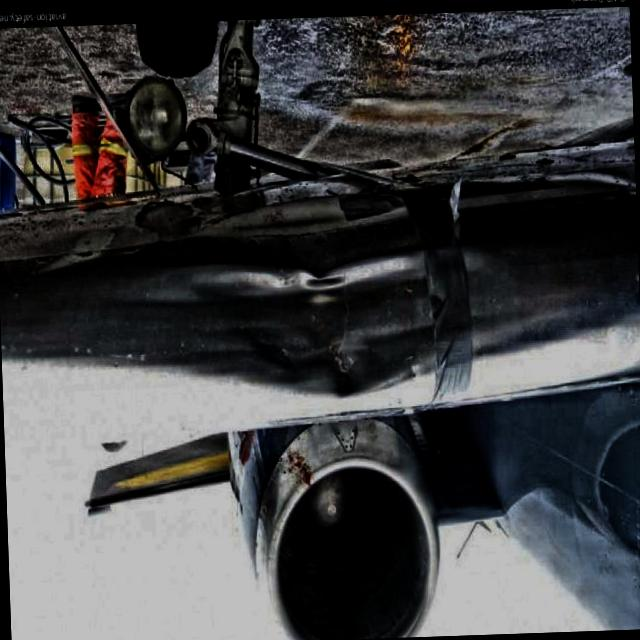dent: (115, 254, 495, 408)
